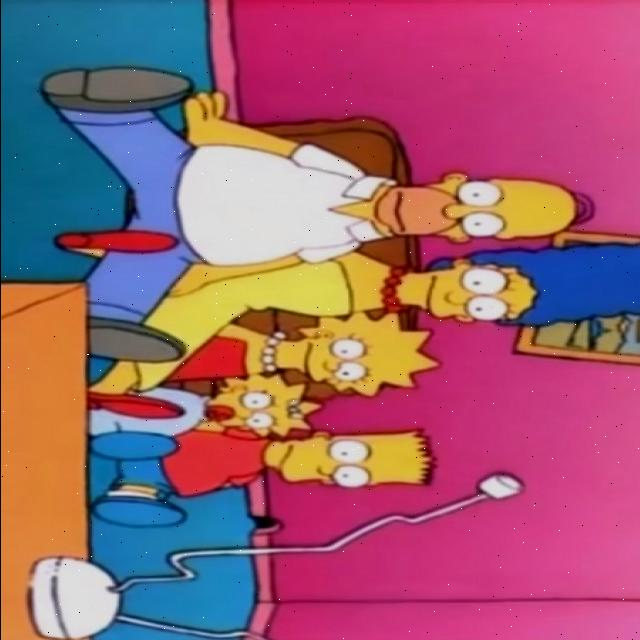Bart Simpson: (256, 426, 438, 491)
Homer Simpson: (362, 169, 600, 245)
Lisa Simpson: (264, 310, 442, 400)
Maggie Simpson: (195, 369, 328, 442)
Marge Simpson: (377, 241, 640, 331)
